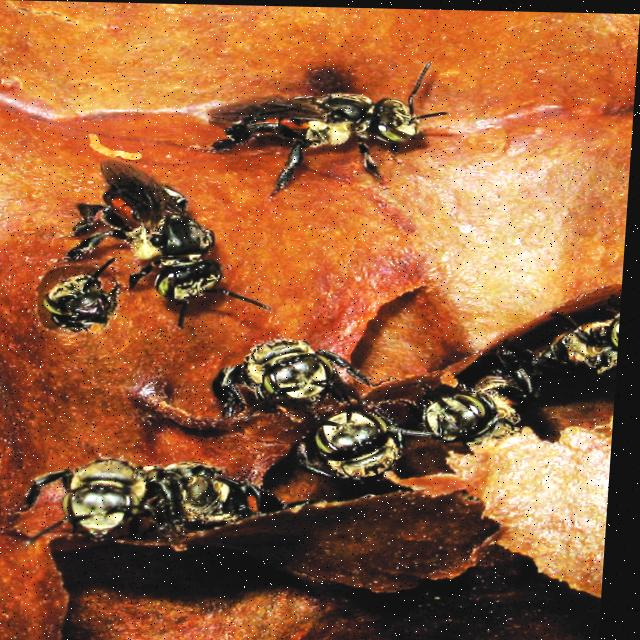Meliponula: (49, 157, 301, 328), (194, 54, 471, 192), (26, 449, 178, 550), (145, 450, 298, 550), (209, 333, 382, 414), (295, 398, 433, 485), (427, 357, 556, 447), (27, 255, 135, 343), (555, 300, 625, 390)
